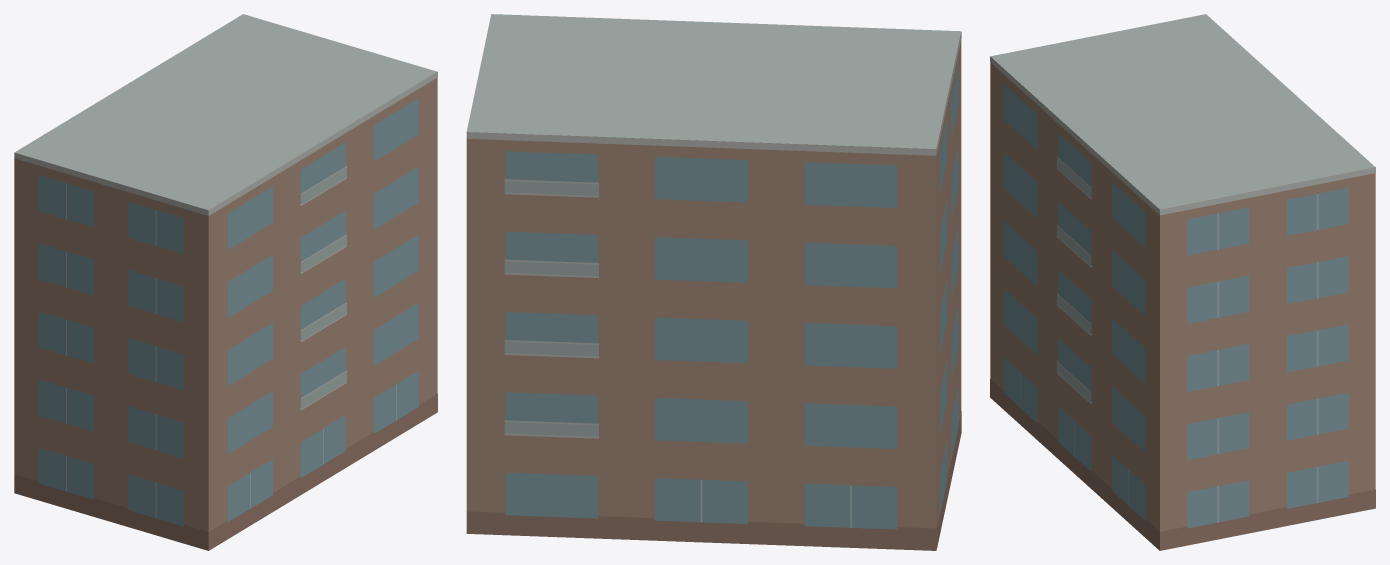
Rendered from survey-upis-32731803.glb.
3 renders of one model, left to right at view 1: azimuth 30°, elevation 25°; view 2: azimuth 150°, elevation 25°; view 3: azimuth 270°, elevation 25°, orthographic. The views are drawn at different scales.
Visible parts, largest first — view 1: survey-upis-32731803.tmp; view 2: survey-upis-32731803.tmp; view 3: survey-upis-32731803.tmp.
Part boxes in pixels (x1,y1,x2,y2): survey-upis-32731803.tmp: [14, 14, 437, 550]; survey-upis-32731803.tmp: [466, 14, 961, 550]; survey-upis-32731803.tmp: [990, 14, 1375, 550].
Bounding box in the file's own units: 17.91 × 14.55 × 14.91.
